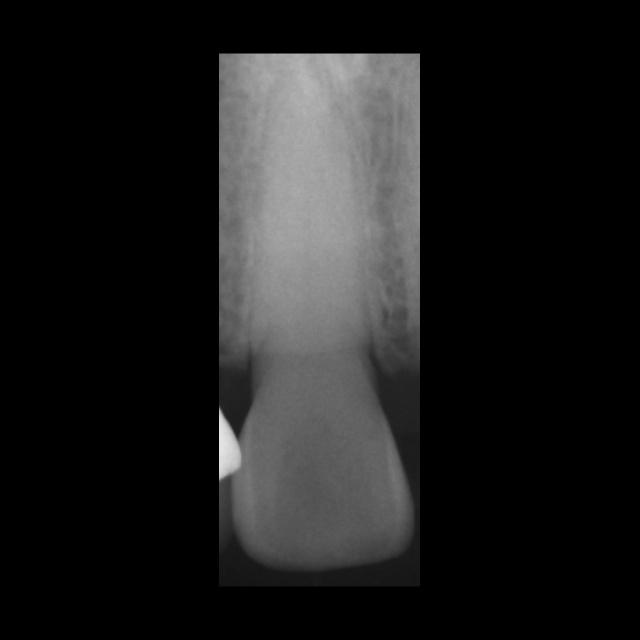tooth: (230, 71, 414, 572)
